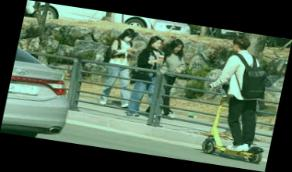nonhelmet: (199, 32, 289, 165)
